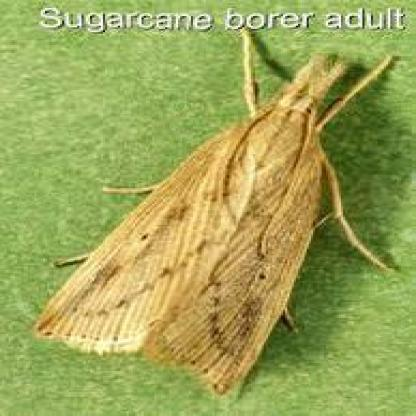stem-borer: (31, 43, 408, 397)
